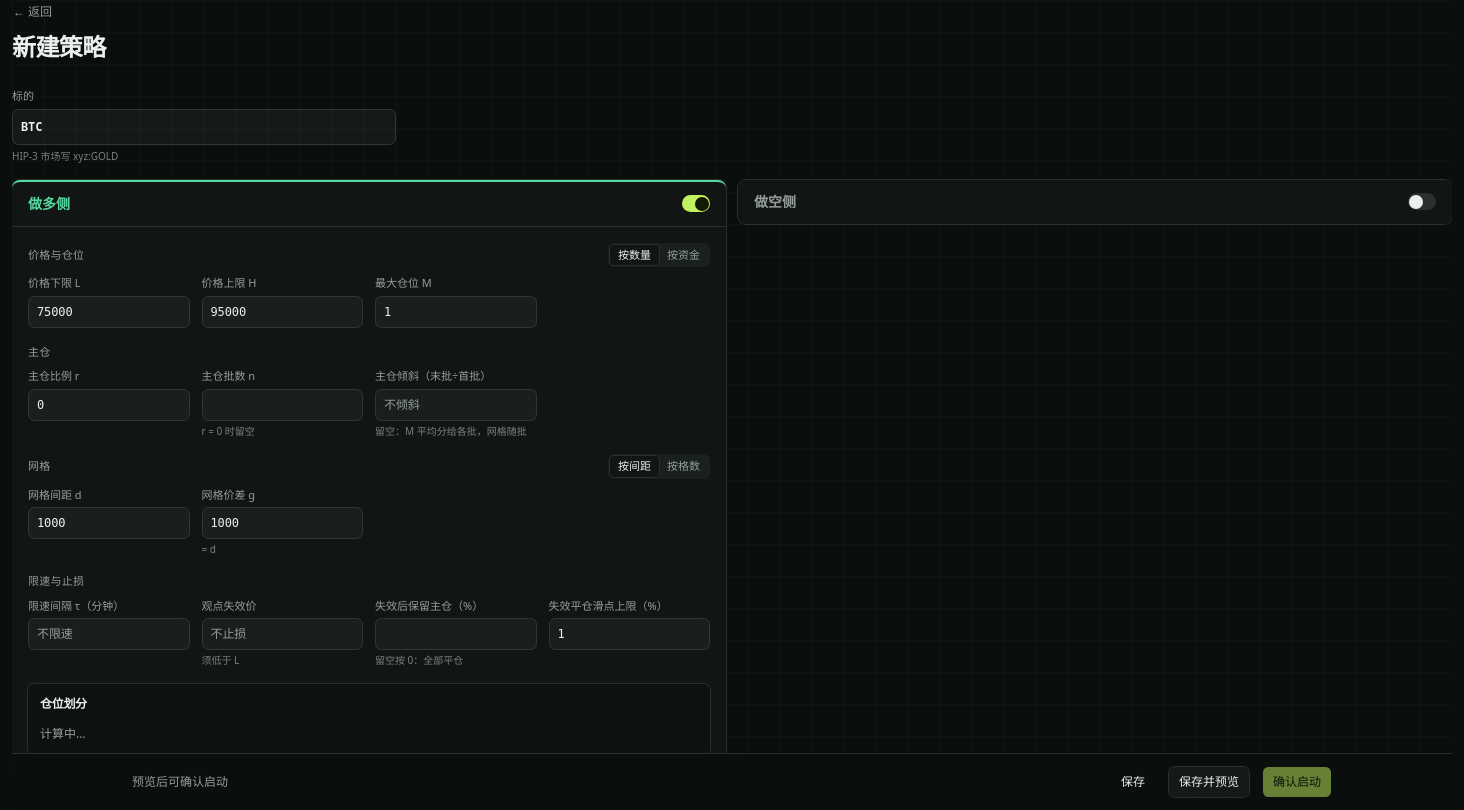
新建与确认启动 › 做空网格：只勾空头侧，提交的配置里没有多头侧
Click the switch named "启用做多侧".
click(696, 204)  # box [682, 195, 710, 212]
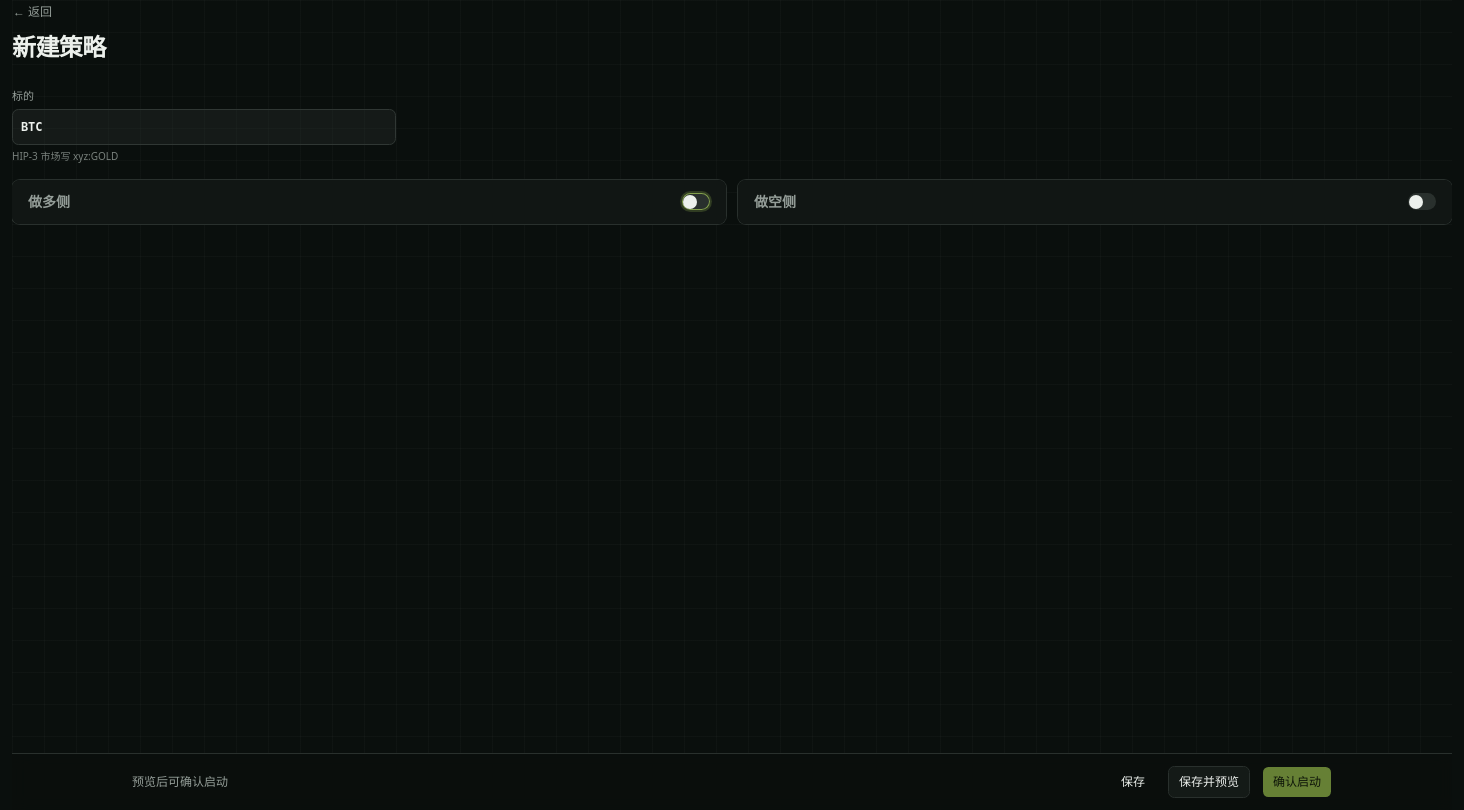
Click the switch named "启用做空侧".
click(1422, 202)  # box [1408, 193, 1436, 210]
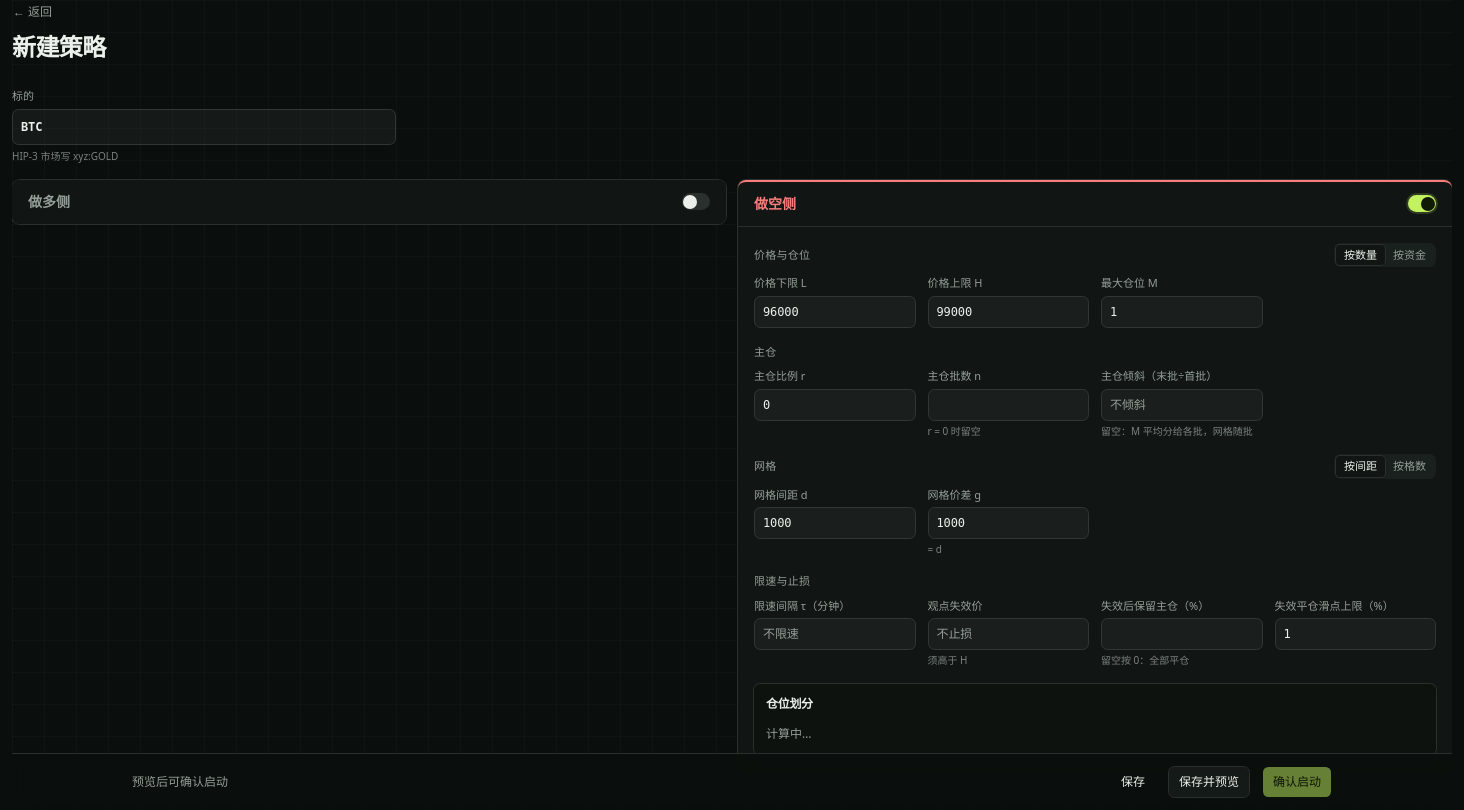
Click the button "保存并预览".
click(1209, 782)  # box [1168, 766, 1250, 798]
(page scrolled)
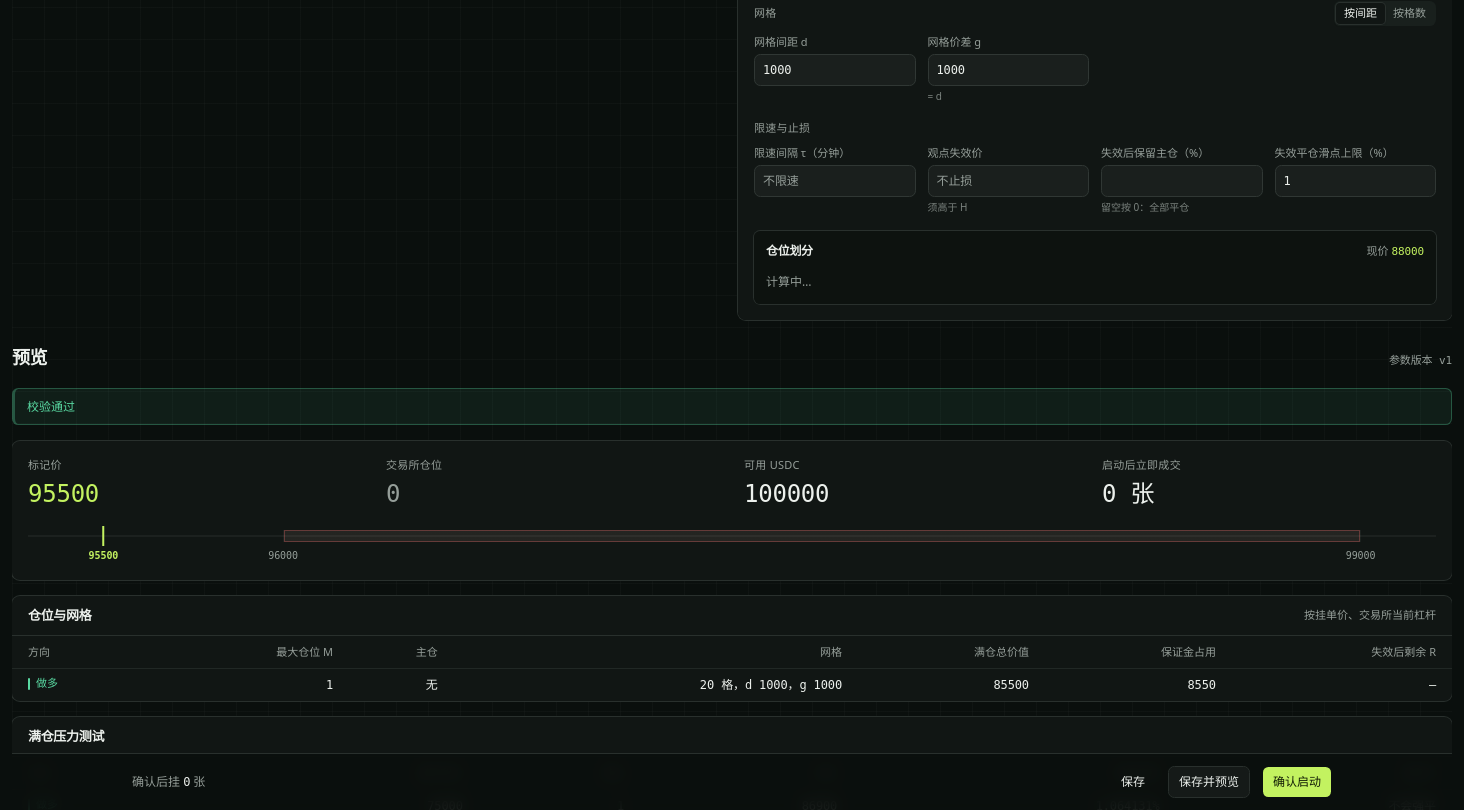
Expected: the text "校验通过" is shown, [27, 398, 75, 415]
